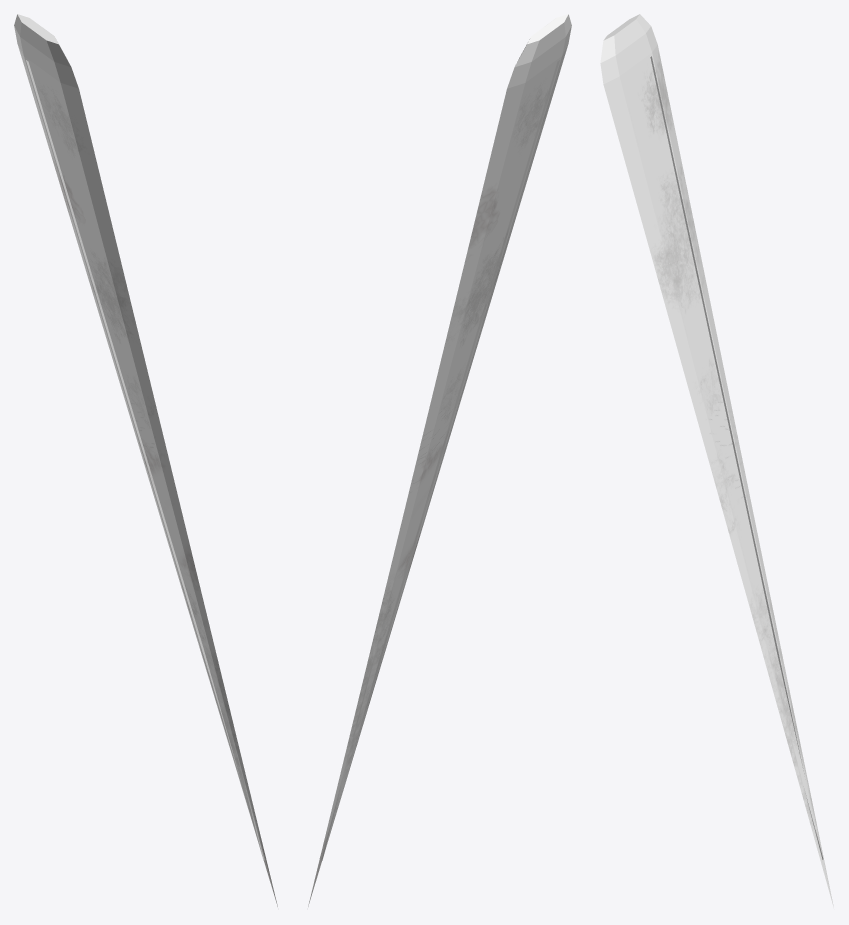
Rendered from Blade.fbx.
The picture shows the model from 3 angles, left to right: view 1: azimuth 30°, elevation 25°; view 2: azimuth 150°, elevation 25°; view 3: azimuth 330°, elevation 25°; orthographic projection. The views are drawn at different scales.
Parts seen in each view (by area): view 1: Blade; view 2: Blade; view 3: Blade.
Part boxes in pixels (x1,y1,x2,y2): Blade: (14, 14, 277, 906); Blade: (308, 14, 571, 906); Blade: (600, 14, 833, 907).
Bounding box in the file's own units: 104 × 383 × 45.36.
